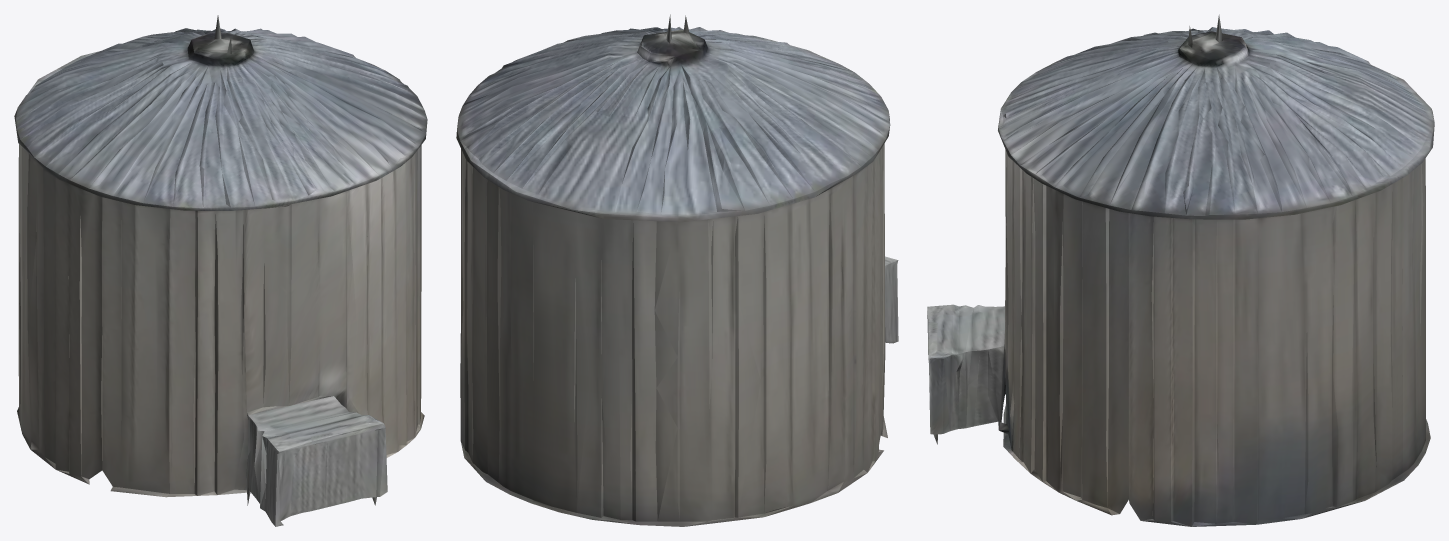
Rendered from grainSiloGroundT.glb.
3 views of the same model, side by side, from view 1: azimuth 30°, elevation 25°; view 2: azimuth 150°, elevation 25°; view 3: azimuth 270°, elevation 25° (orthographic). The views are drawn at different scales.
Parts seen in each view (by area): view 1: model; view 2: model; view 3: model.
Boxes of the visible parts, x1,y1,x2,y2 form: model: (14, 15, 427, 526); model: (456, 14, 898, 526); model: (927, 14, 1434, 526).
Size of the model in its own units: 1.59 by 1.76 by 1.88.
1 material, 1 textured.
